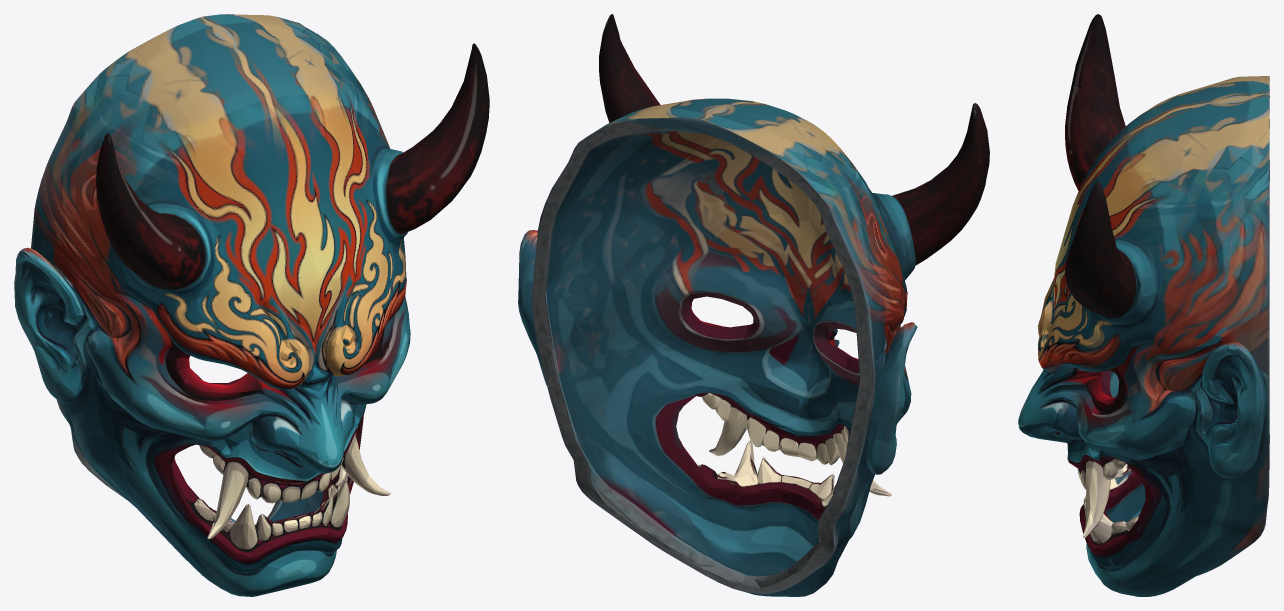
File: BOSS5_2_source_user.glb
3 renders of one model, left to right at view 1: azimuth 30°, elevation 25°; view 2: azimuth 150°, elevation 25°; view 3: azimuth 270°, elevation 25°, orthographic. The views are drawn at different scales.
Visible parts, largest first — view 1: Mesh_0; view 2: Mesh_0; view 3: Mesh_0.
Part boxes in pixels (<box>): Mesh_0: <box>14,14,489,596</box>; Mesh_0: <box>518,14,989,596</box>; Mesh_0: <box>1018,14,1269,596</box>.
Size of the model in its own units: 1.58 by 2 by 0.9311.
1 material, 1 textured.
